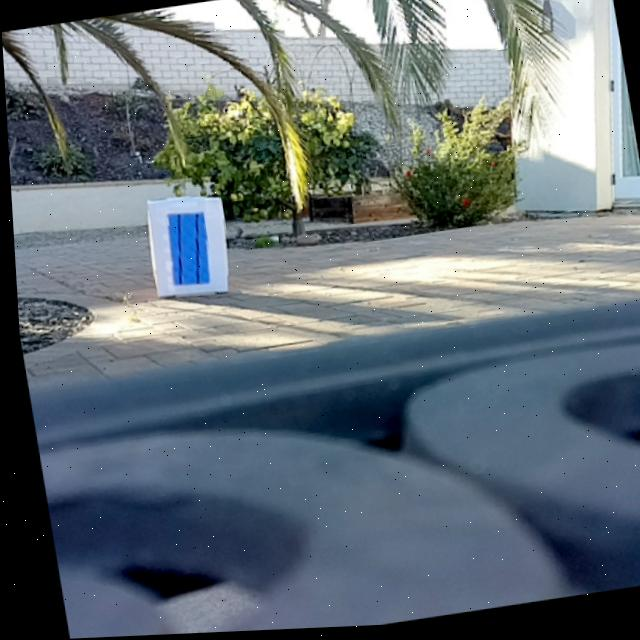led: (160, 210, 213, 290)
